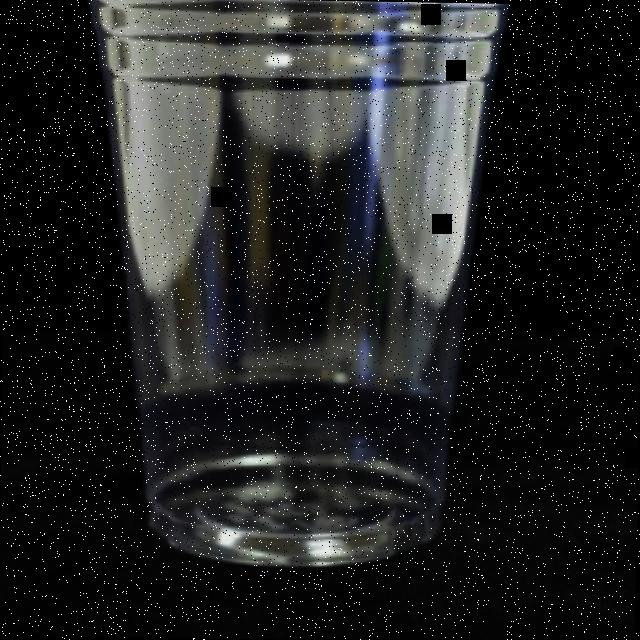plastic_box: (38, 0, 537, 569)
